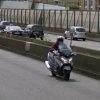Motorcycle: (36, 40, 90, 82)
